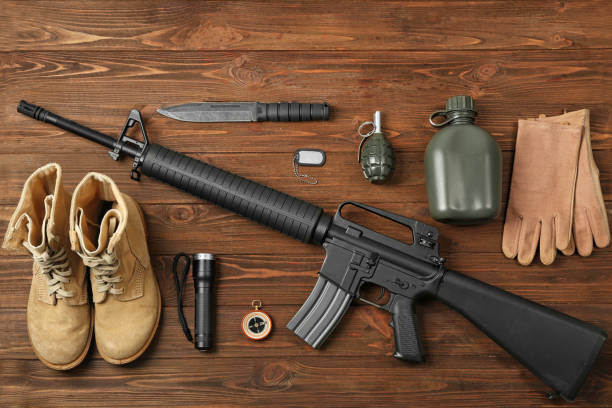e1: (357, 111, 395, 184)
